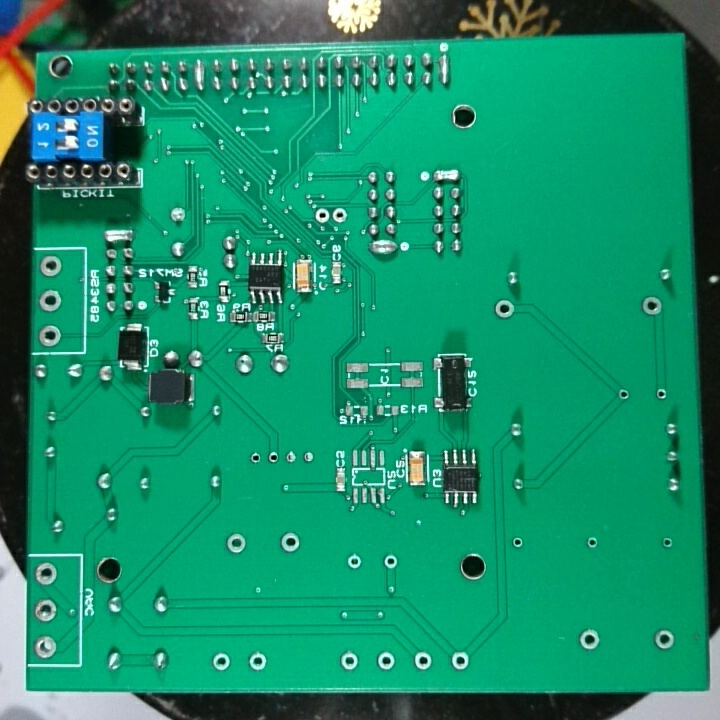F: (30, 558, 62, 589), (36, 286, 66, 316), (31, 631, 61, 660), (575, 624, 603, 655), (36, 252, 65, 281), (33, 595, 60, 626), (36, 321, 65, 349), (650, 625, 676, 656), (224, 529, 251, 558), (638, 293, 664, 320), (278, 529, 301, 557), (492, 298, 517, 322), (375, 646, 396, 673), (210, 649, 233, 673), (247, 649, 269, 674), (449, 649, 470, 673), (411, 648, 432, 672), (339, 649, 360, 672), (167, 203, 188, 226), (344, 551, 365, 573), (313, 203, 330, 228), (330, 204, 348, 227), (300, 447, 319, 468), (584, 532, 601, 555), (381, 552, 401, 571), (509, 532, 526, 553), (247, 450, 265, 469), (282, 448, 298, 469), (653, 384, 669, 402), (267, 448, 280, 469), (659, 535, 675, 552), (616, 386, 632, 401)
P: (367, 237, 399, 258), (436, 51, 453, 89), (102, 226, 137, 243), (190, 57, 207, 92), (430, 166, 462, 183)
